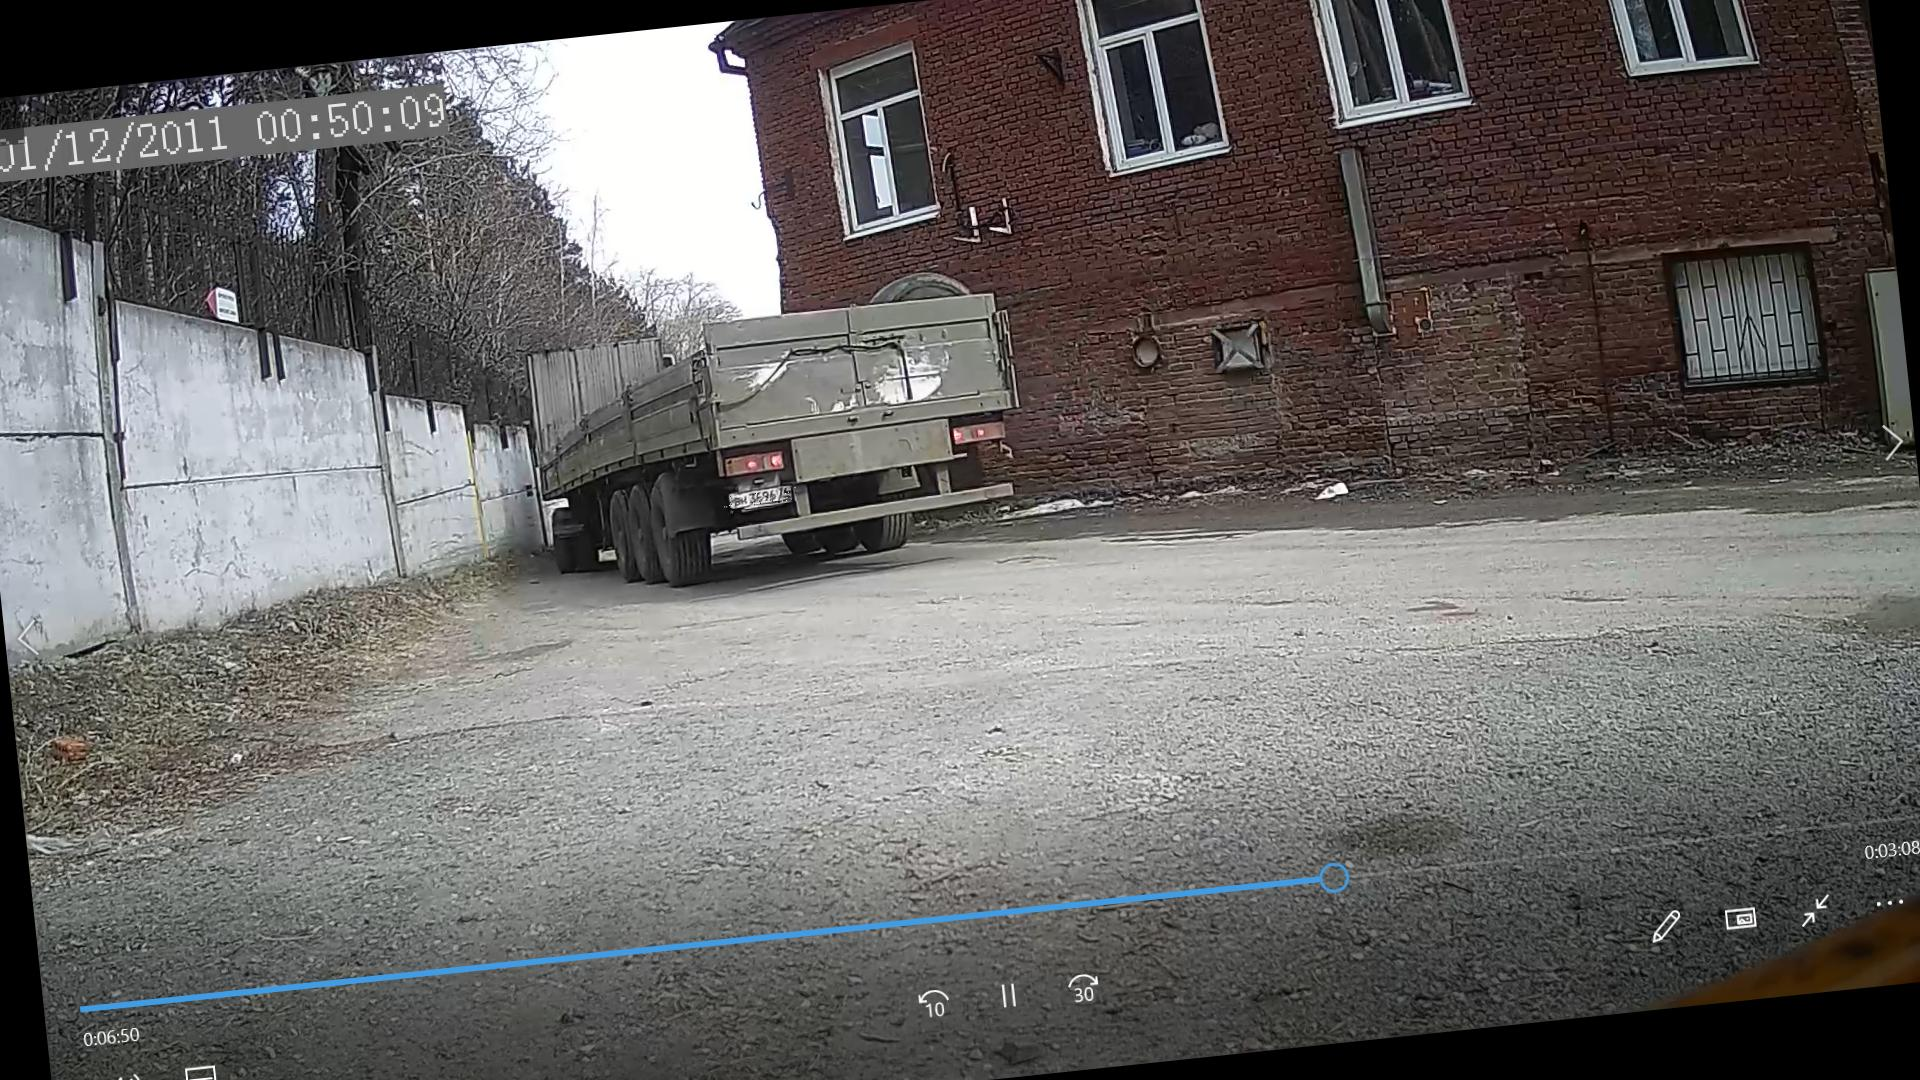plate: (724, 488, 800, 509)
